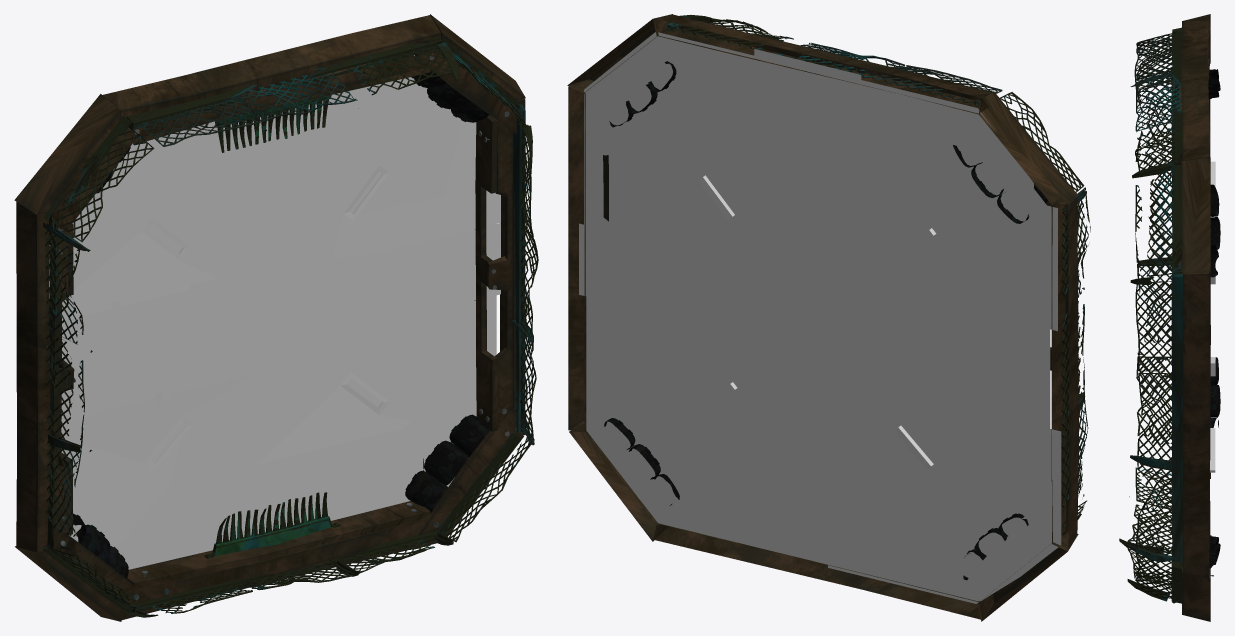
File: Arena.fbx
3 views of the same model, side by side, from view 1: azimuth 30°, elevation 25°; view 2: azimuth 150°, elevation 25°; view 3: azimuth 270°, elevation 25° (orthographic). The views are drawn at different scales.
Parts seen in each view (by area): view 1: Cube.013; view 2: Cube.013; view 3: Cube.013.
Boxes of the visible parts, box(x1,y1,x2,y2) form: Cube.013: box(14, 14, 538, 621); Cube.013: box(567, 14, 1090, 621); Cube.013: box(1119, 14, 1220, 621).
Bounding box in the file's own units: 5 × 5 × 0.9838.
